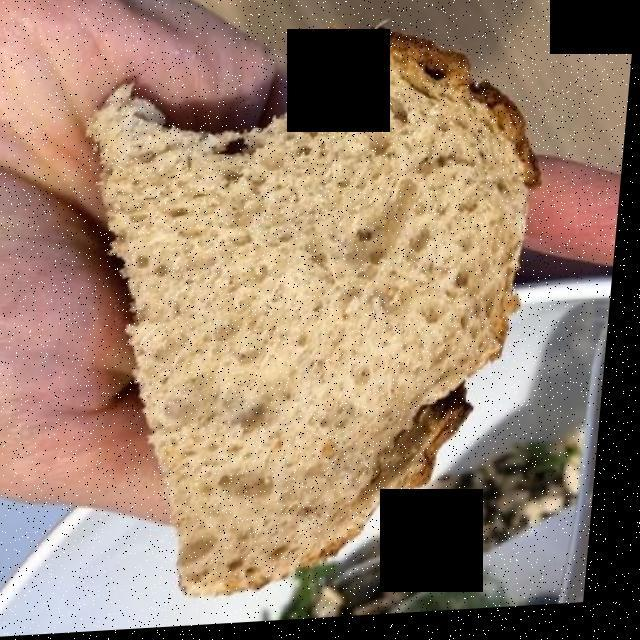bread: (102, 43, 537, 595)
